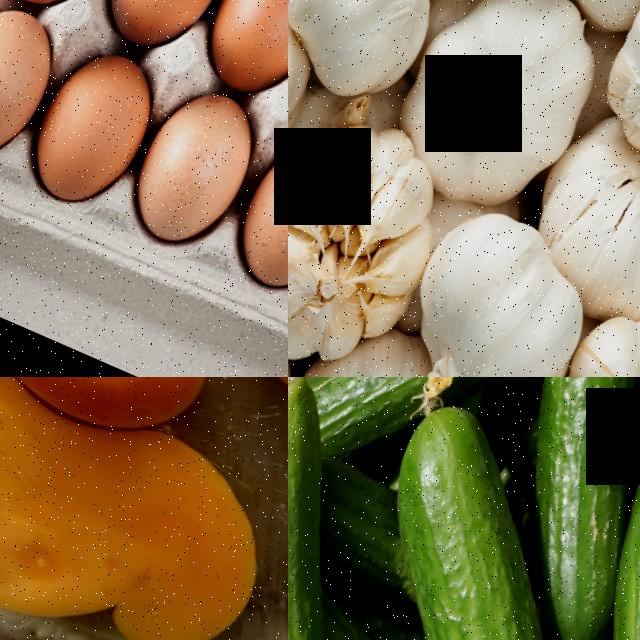cucumber: (323, 390, 583, 640), (288, 377, 392, 626), (480, 377, 640, 520), (539, 463, 640, 640), (364, 377, 560, 431)
egg_: (14, 34, 179, 218), (117, 74, 280, 256), (0, 377, 254, 458), (0, 0, 78, 171), (223, 122, 288, 302), (189, 0, 288, 107), (88, 0, 253, 62)
garlic: (378, 0, 628, 216), (288, 106, 474, 377), (379, 194, 620, 377), (509, 112, 640, 332), (288, 0, 475, 103), (516, 299, 640, 377), (288, 0, 339, 173)
